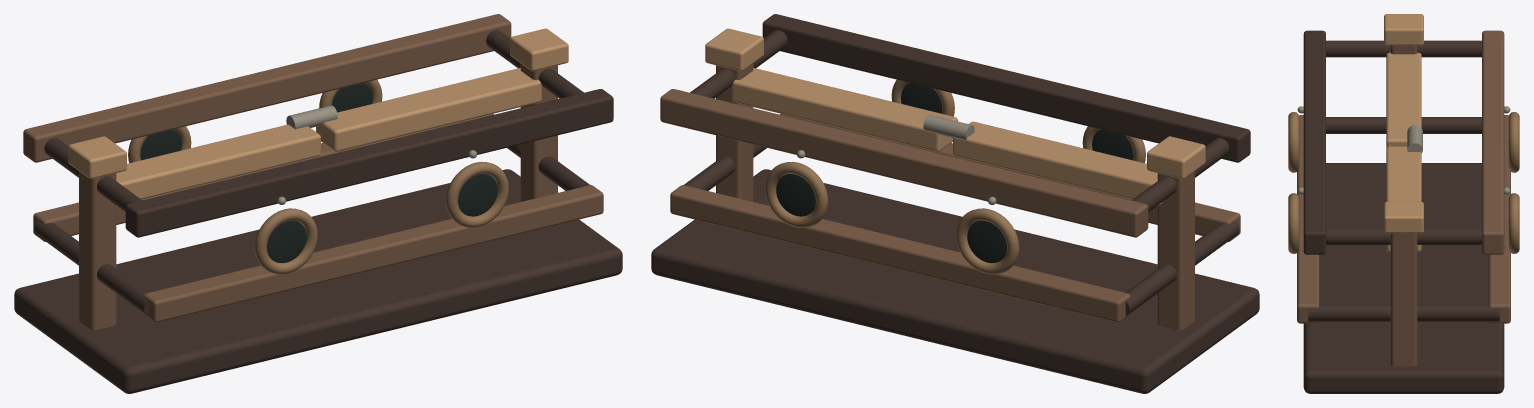
File: detail_stocks.glb
The picture shows the model from 3 angles, left to right: view 1: azimuth 30°, elevation 25°; view 2: azimuth 150°, elevation 25°; view 3: azimuth 270°, elevation 25°; orthographic projection. The views are drawn at different scales.
Visible parts, largest first — view 1: wood, metal, object 8, object 10, object 7, object 9, object 3, object 5, object 4; view 2: wood, metal, object 4, object 6, object 3, object 5, object 7, object 9, object 10, object 8; view 3: wood, metal, object 4, object 6, object 8, object 10.
Boxes of the visible parts, bbox=[...] form: wood: bbox=[14, 28, 622, 393]; metal: bbox=[23, 14, 613, 322]; object 8: bbox=[254, 208, 317, 274]; object 10: bbox=[445, 161, 508, 227]; object 7: bbox=[267, 220, 306, 263]; object 9: bbox=[458, 174, 497, 216]; object 3: bbox=[140, 129, 181, 160]; object 5: bbox=[332, 83, 372, 112]; object 4: bbox=[128, 126, 191, 162]; wood: bbox=[651, 28, 1259, 393]; metal: bbox=[660, 14, 1250, 322]; object 4: bbox=[956, 208, 1019, 274]; object 6: bbox=[765, 161, 828, 227]; object 3: bbox=[967, 220, 1006, 263]; object 5: bbox=[776, 174, 815, 216]; object 7: bbox=[1092, 129, 1133, 160]; object 9: bbox=[901, 83, 942, 113]; object 10: bbox=[891, 79, 954, 116]; object 8: bbox=[1082, 126, 1145, 162]; wood: bbox=[1303, 14, 1504, 393]; metal: bbox=[1297, 30, 1510, 323]; object 4: bbox=[1508, 112, 1519, 172]; object 6: bbox=[1508, 193, 1519, 253]; object 8: bbox=[1288, 112, 1299, 172]; object 10: bbox=[1288, 193, 1299, 253].
Bounding box in the file's own units: 2.6 × 1 × 1.2.
